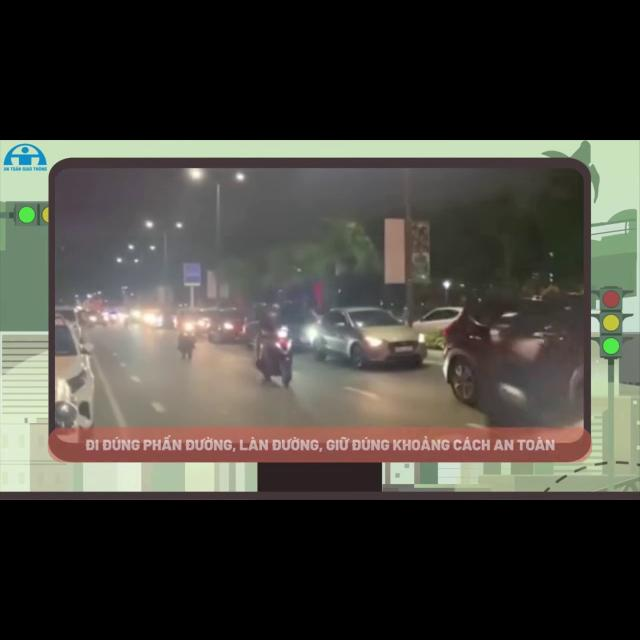car: (443, 297, 584, 426), (312, 307, 426, 367), (54, 318, 94, 427), (279, 304, 318, 348), (412, 306, 464, 334), (206, 308, 244, 343), (55, 306, 81, 338), (84, 311, 106, 326)
motorcycle: (257, 327, 292, 387), (178, 322, 196, 359)
